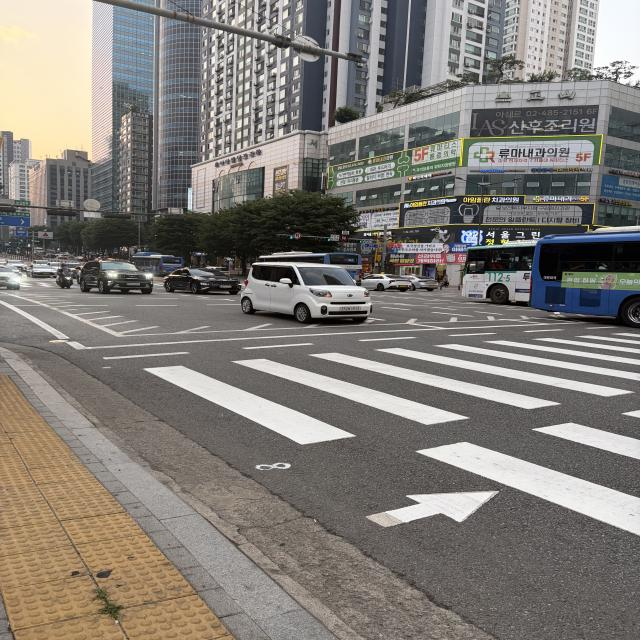car: (442, 238, 640, 321), (226, 254, 389, 336), (71, 256, 159, 299), (162, 258, 245, 303)
